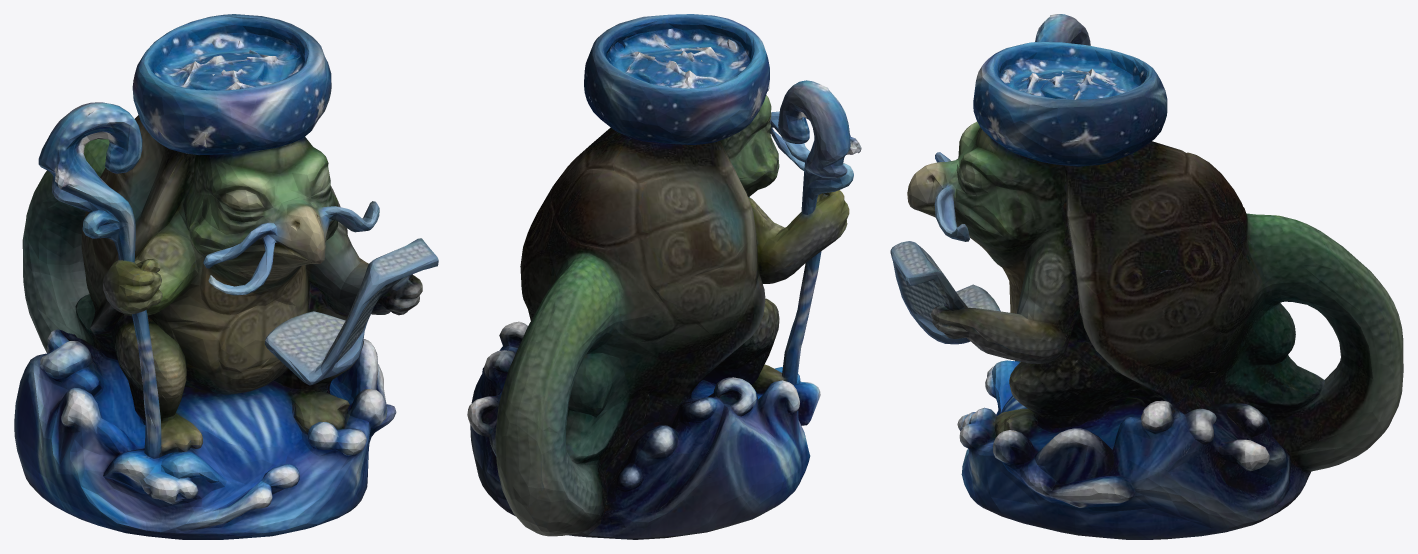
The model's file is kappadeep__riverElderTide.glb.
3 renders of one model, left to right at view 1: azimuth 30°, elevation 25°; view 2: azimuth 150°, elevation 25°; view 3: azimuth 270°, elevation 25°, orthographic. The views are drawn at different scales.
Visible parts, largest first — view 1: world; view 2: world; view 3: world.
Boxes of the visible parts, box(x1,y1,x2,y2) form: world: box(14, 14, 438, 539); world: box(467, 14, 861, 539); world: box(890, 14, 1403, 539).
Size of the model in its own units: 0.7412 by 0.8669 by 0.9891.
Materials: 1 (1 with a texture image).
